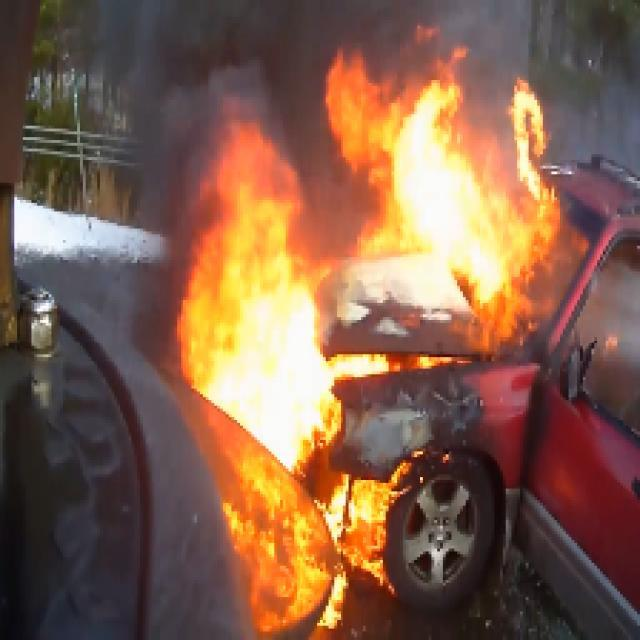Fire: (182, 100, 608, 580)
Smoke: (86, 2, 408, 238), (308, 3, 640, 103)
